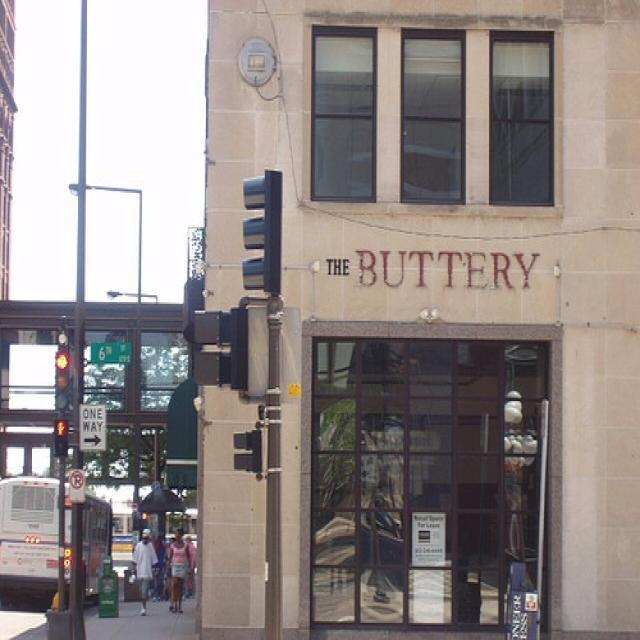fire_hydrant: (44, 590, 58, 612)
